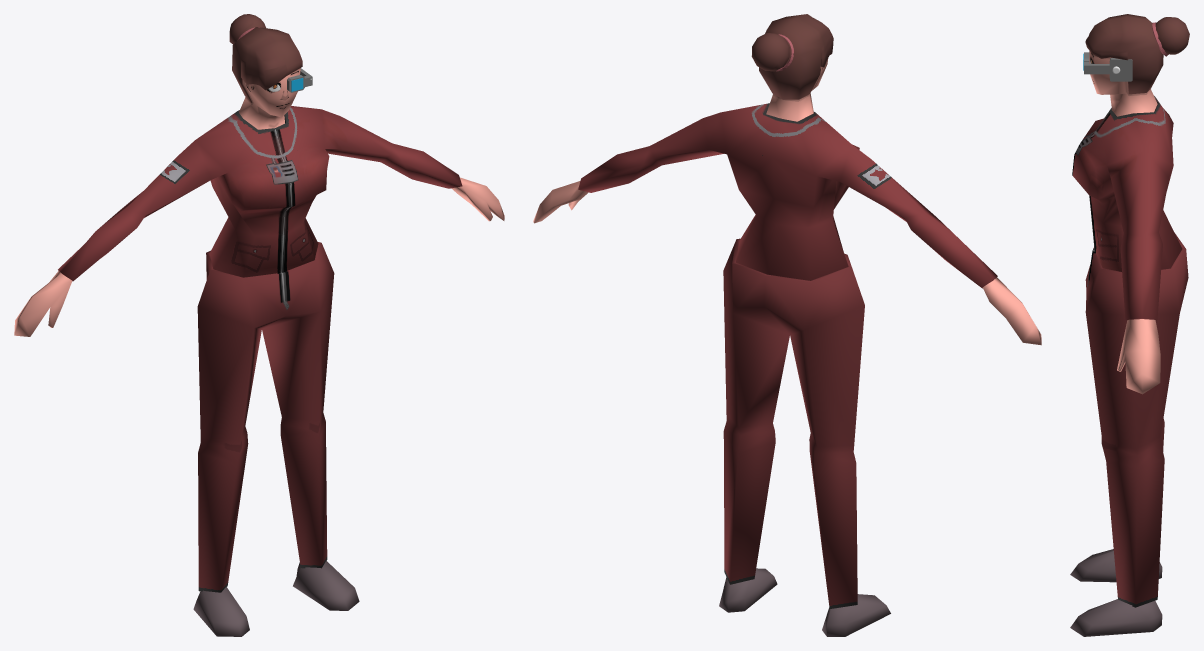
The model's file is Natasha.fbx.
3 views of the same model, side by side, from view 1: azimuth 30°, elevation 25°; view 2: azimuth 150°, elevation 25°; view 3: azimuth 270°, elevation 25° (orthographic). The views are drawn at different scales.
Visible parts, largest first — view 1: HumanoidBase_NotOverlapping.014, HumanoidBase_NotOverlapping.012, Shoes.004, HumanoidBase_NotOverlapping.015; view 2: HumanoidBase_NotOverlapping.014, HumanoidBase_NotOverlapping.015, HumanoidBase_NotOverlapping.012, Shoes.004, Sphere.002; view 3: HumanoidBase_NotOverlapping.014, HumanoidBase_NotOverlapping.012, HumanoidBase_NotOverlapping.015, Shoes.004, Sphere.002, Cube.016.
Part boxes in pixels (x1,y1,x2,y2): HumanoidBase_NotOverlapping.014: (58, 106, 462, 592); HumanoidBase_NotOverlapping.012: (14, 68, 504, 336); Shoes.004: (193, 560, 359, 636); HumanoidBase_NotOverlapping.015: (232, 27, 302, 102); HumanoidBase_NotOverlapping.014: (578, 103, 997, 608); HumanoidBase_NotOverlapping.015: (759, 14, 833, 99); HumanoidBase_NotOverlapping.012: (533, 58, 1041, 345); Shoes.004: (719, 568, 890, 636); Sphere.002: (751, 33, 789, 71); HumanoidBase_NotOverlapping.014: (1072, 96, 1188, 607); HumanoidBase_NotOverlapping.012: (1089, 51, 1160, 394); HumanoidBase_NotOverlapping.015: (1085, 14, 1163, 94); Shoes.004: (1070, 549, 1162, 636); Sphere.002: (1155, 17, 1189, 54); Cube.016: (1084, 52, 1132, 81).
Bounding box in the file's own units: 161 × 180 × 33.38.
8 materials, 4 textured.
